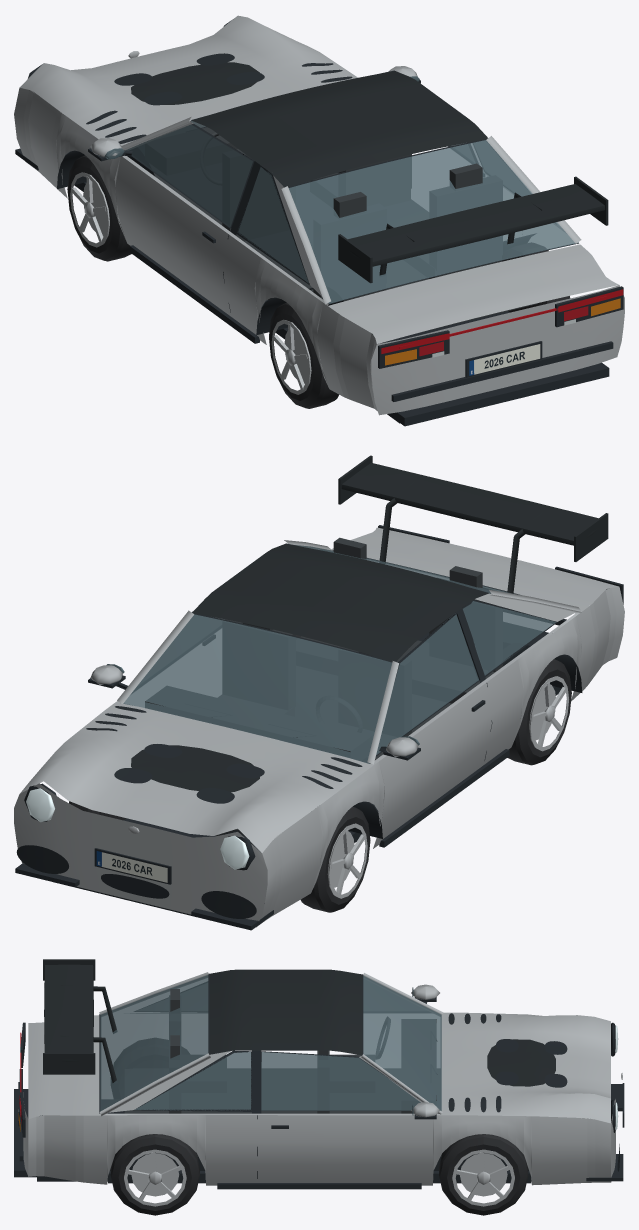
Rendered from Entrega_27_LOD1.glb.
The picture shows the model from 3 angles, top to bottom: view 1: azimuth 30°, elevation 25°; view 2: azimuth 150°, elevation 25°; view 3: azimuth 270°, elevation 25°; orthographic projection. The views are drawn at different scales.
Parts seen in each view (by area): view 1: Body, Glass, Interior, RearWing, Wheel_RL, Wheel_FL, TailLights, Plates, Wheel_RR; view 2: Body, Glass, Interior, RearWing, Wheel_FL, Wheel_RL, Headlights, Plates; view 3: Body, Glass, Interior, RearWing, Wheel_RR, Wheel_FR, Wheel_RL.
Part boxes in pixels (x1,y1,x2,y2): Body: (14,15,624,426); Glass: (104,76,578,303); Interior: (145,127,537,335); RearWing: (338,176,608,283); Wheel_RL: (269,302,338,408); Wheel_FL: (67,155,131,261); TailLights: (381,289,623,353); Plates: (469,344,540,375); Wheel_RR: (502,243,570,312); Body: (14,481,624,930); Glass: (106,545,556,763); Interior: (145,537,502,844); RearWing: (338,455,608,561); Wheel_FL: (300,806,370,912); Wheel_RL: (507,659,571,765); Headlights: (26,788,249,869); Plates: (96,851,167,882); Body: (14,969,624,1189); Glass: (100,975,441,1115); Interior: (124,989,497,1156); RearWing: (43,959,95,1074); Wheel_RR: (110,1134,199,1215); Wheel_FR: (439,1134,528,1215); Wheel_RL: (111,1038,189,1098).
Bounding box in the file's own units: 2.28 × 1.32 × 4.57.
14 materials, 1 textured.
